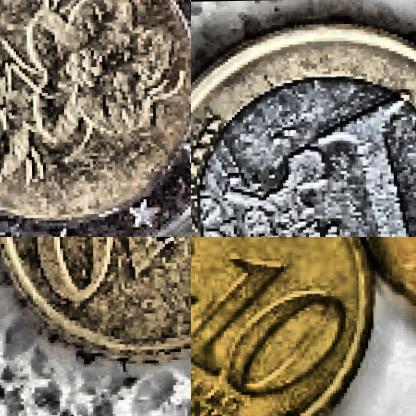coin: (191, 17, 415, 236), (0, 0, 190, 236), (191, 237, 378, 415), (1, 237, 190, 360)
